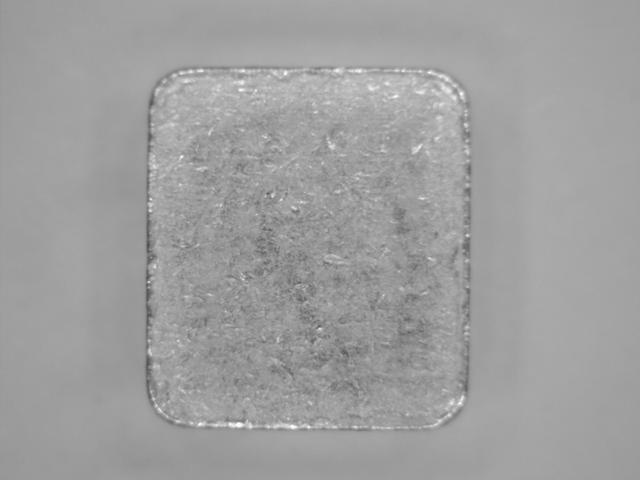ok: (141, 63, 476, 434)
